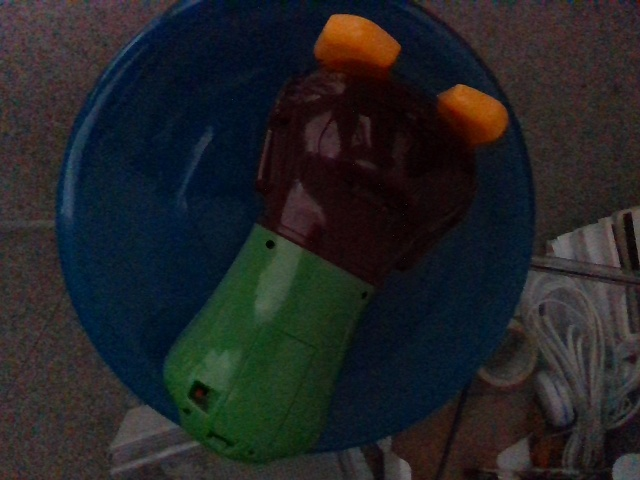screw hole: (264, 239, 277, 250), (182, 407, 192, 415), (245, 446, 254, 454), (361, 290, 369, 298)
toy: (162, 13, 509, 465)
